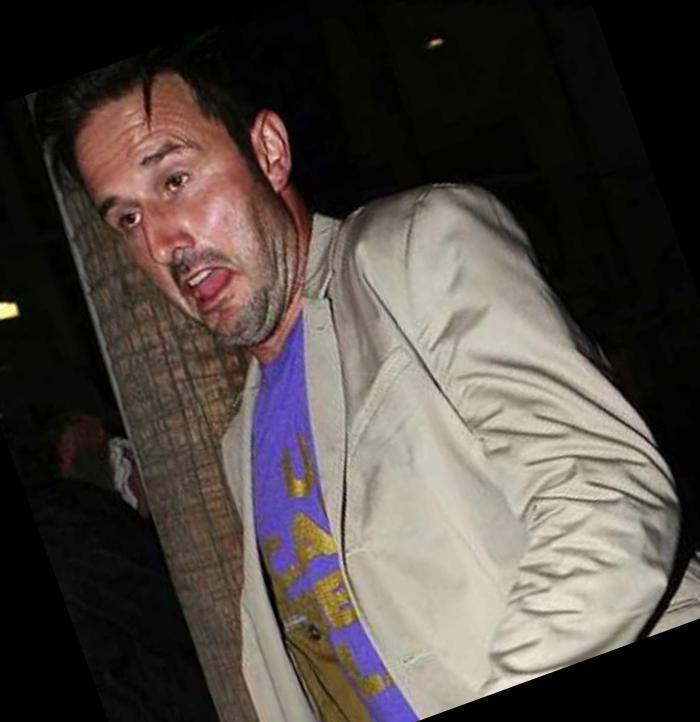Drunk: (61, 104, 284, 332)
